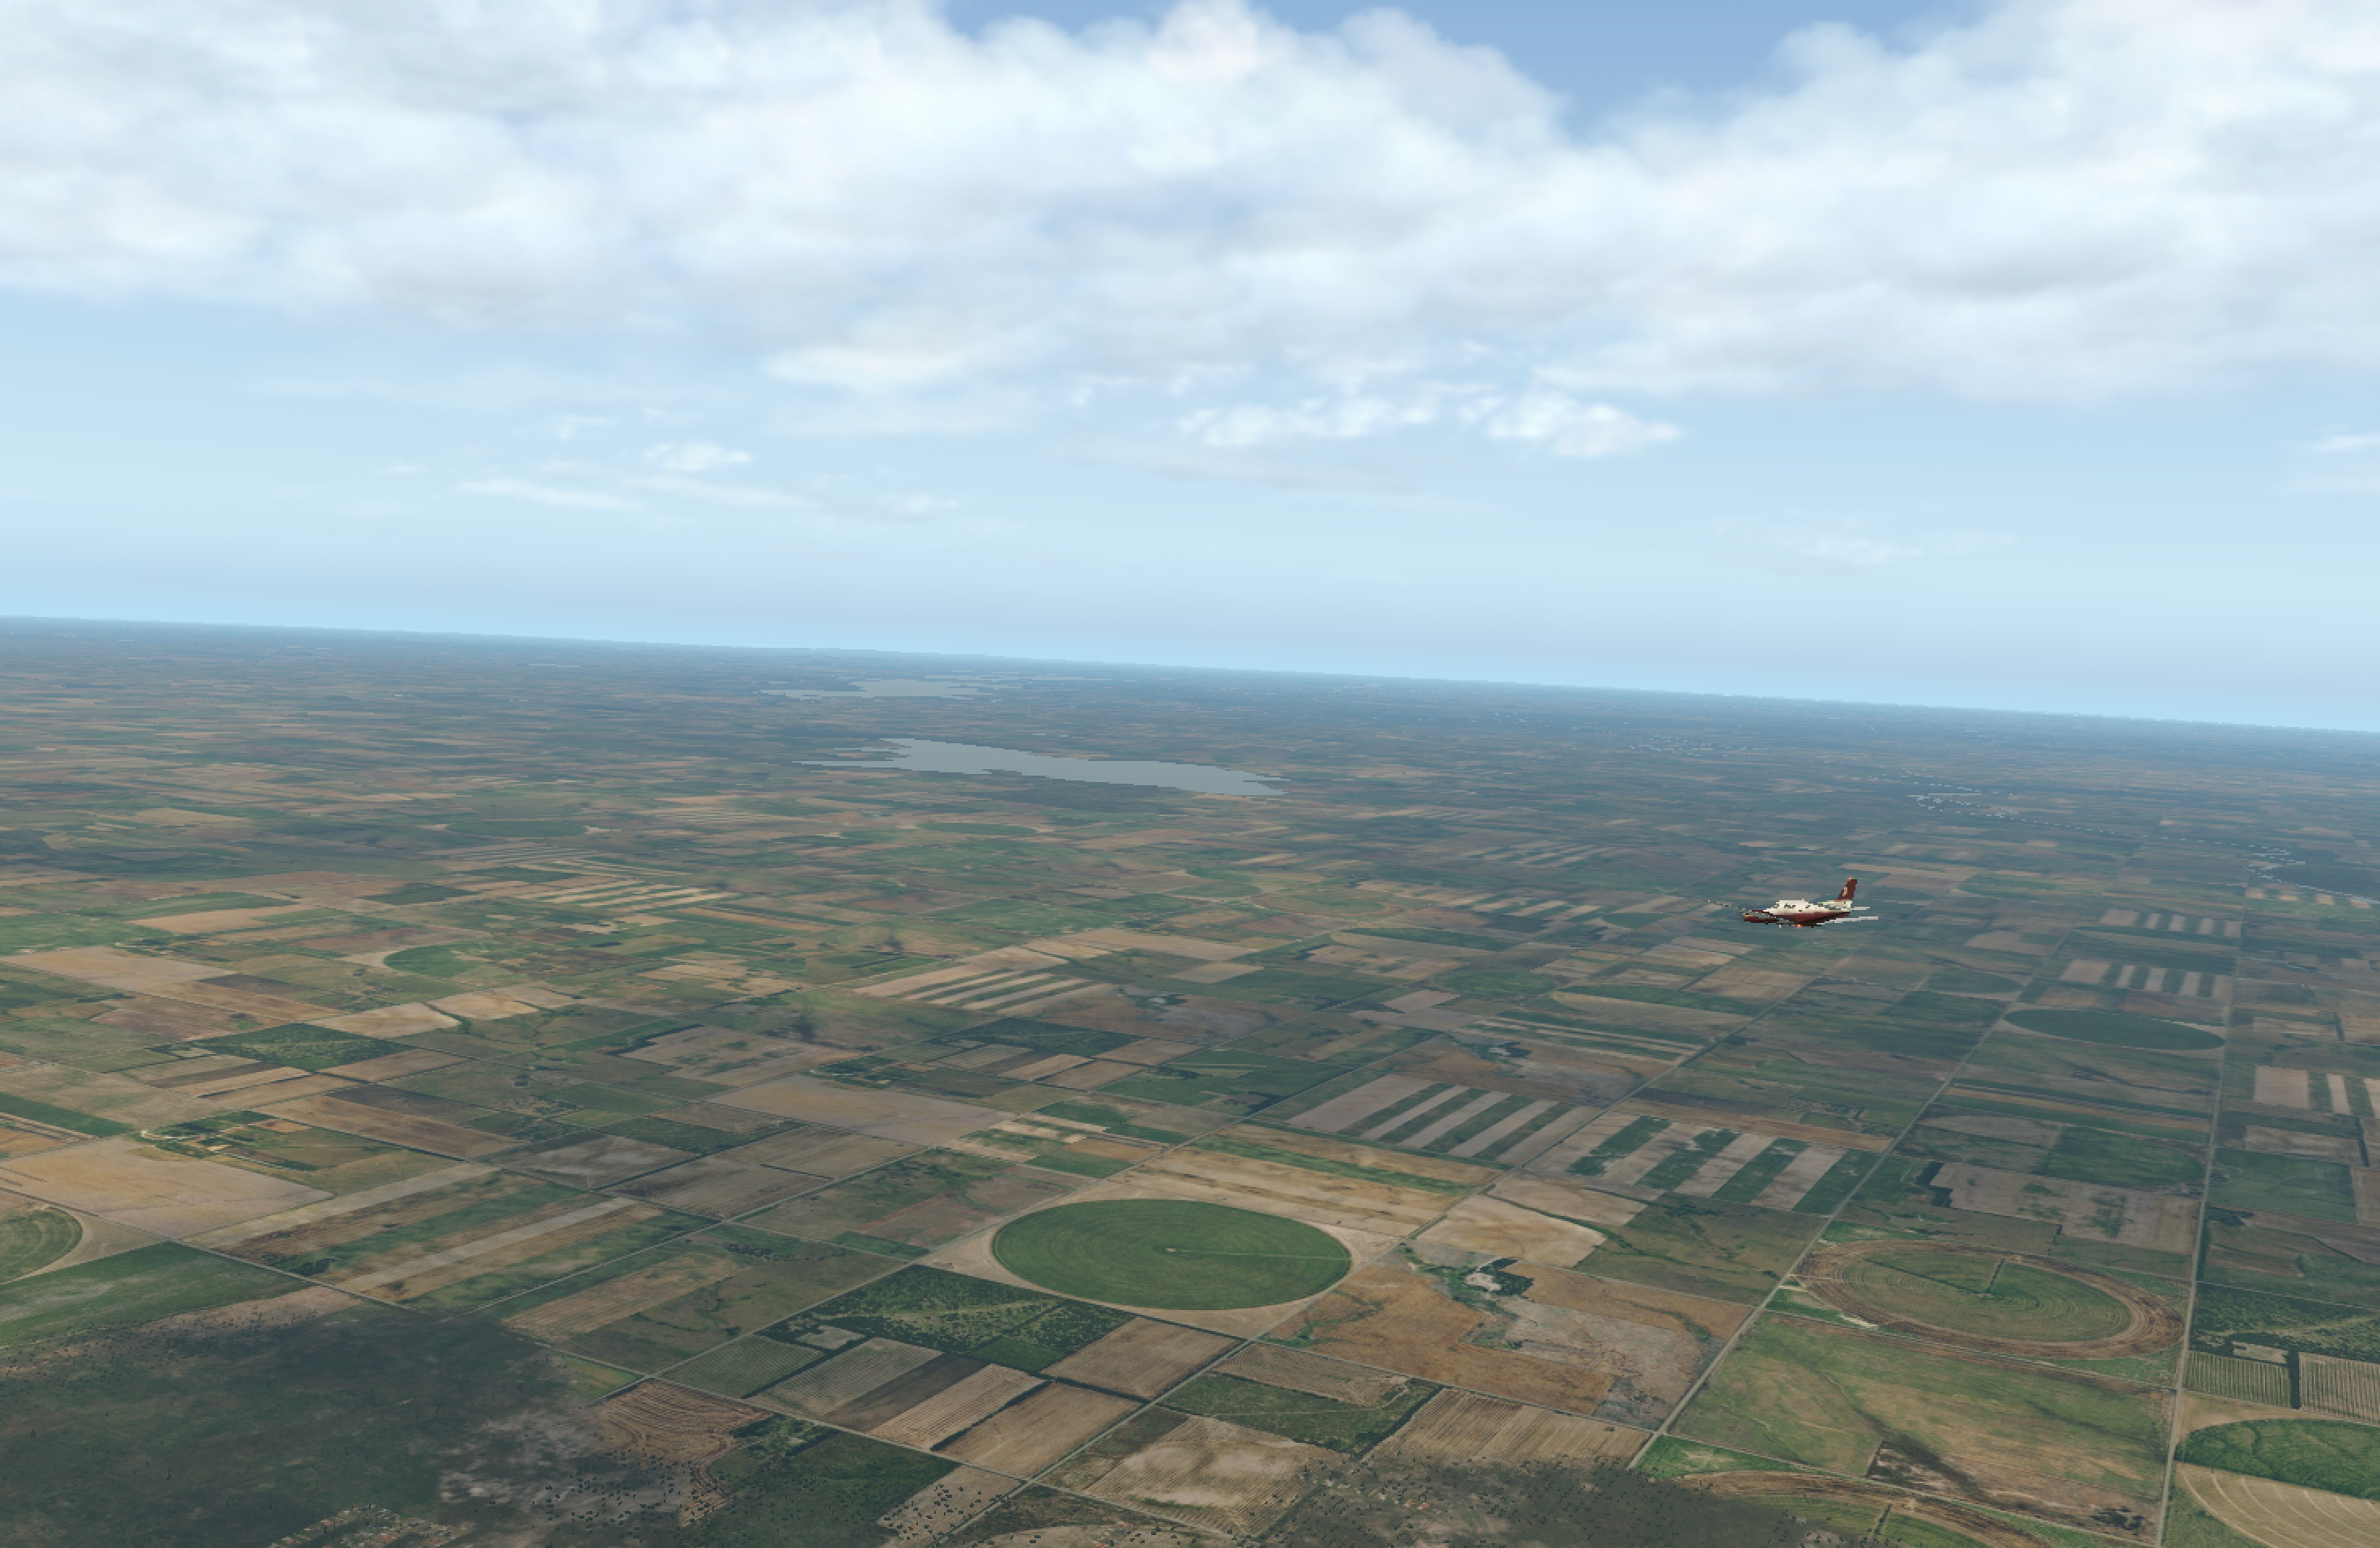aircraft: (1686, 885, 1891, 961)
